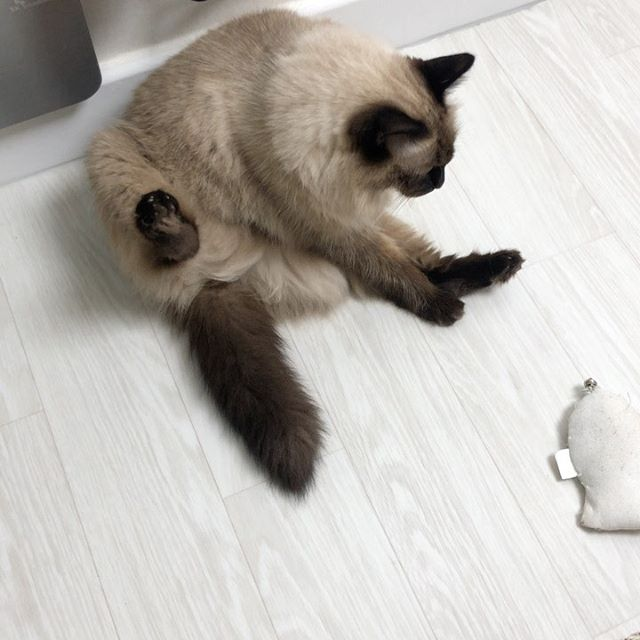cat: (342, 49, 480, 207)
